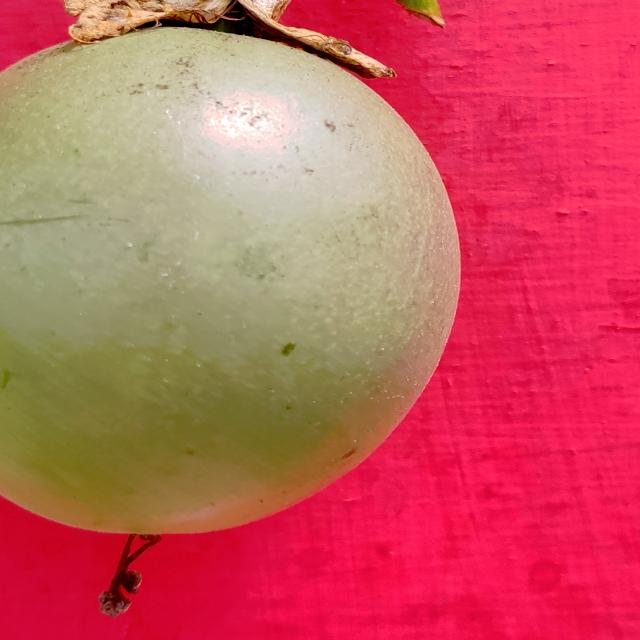Estado-2: (0, 0, 459, 543)
